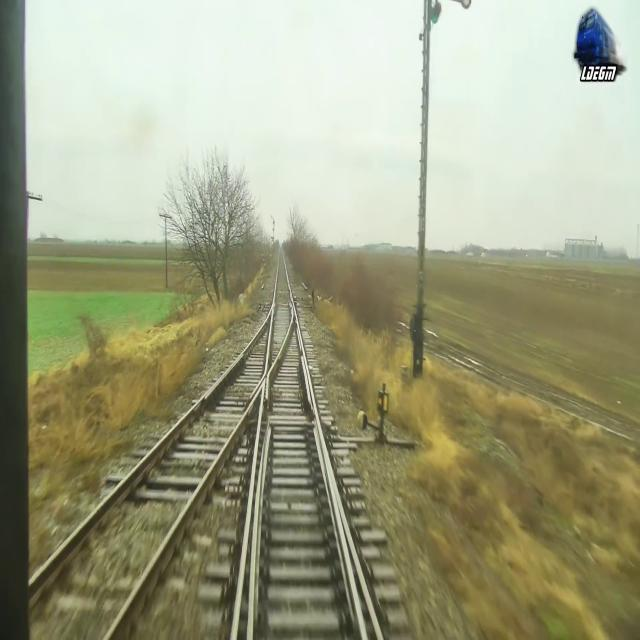rail-track: (0, 312, 271, 639), (235, 311, 364, 639), (266, 248, 292, 372), (355, 574, 375, 639)
